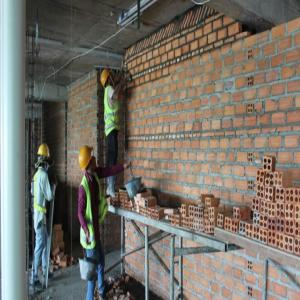yellow: (79, 144, 97, 172), (38, 144, 50, 170), (102, 70, 116, 91)
